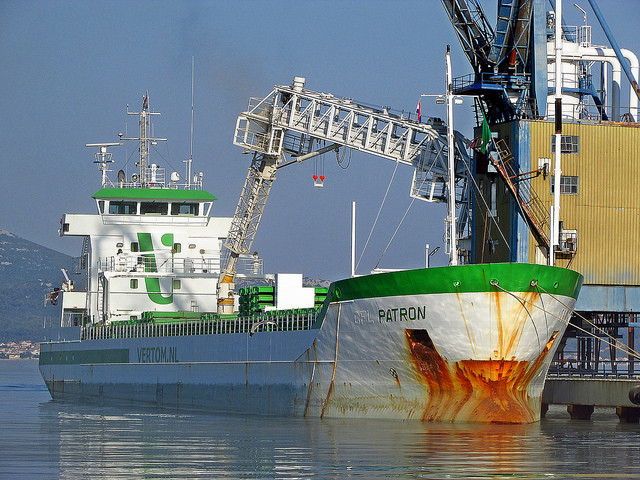bulk carrier: (36, 87, 585, 424)
